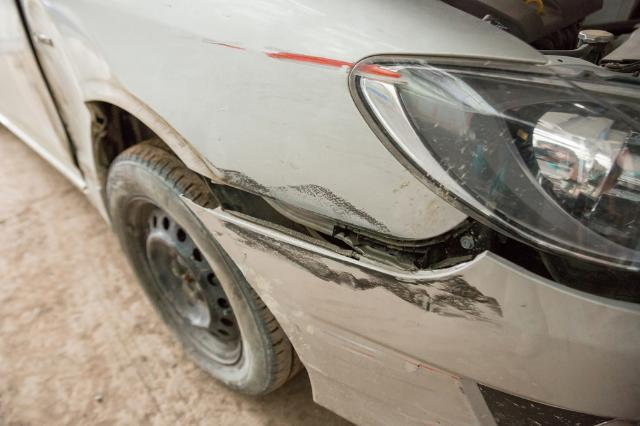dislocated part: (179, 179, 640, 426)
scratch: (213, 216, 506, 326), (187, 148, 397, 239), (205, 38, 353, 74), (352, 64, 409, 103)
